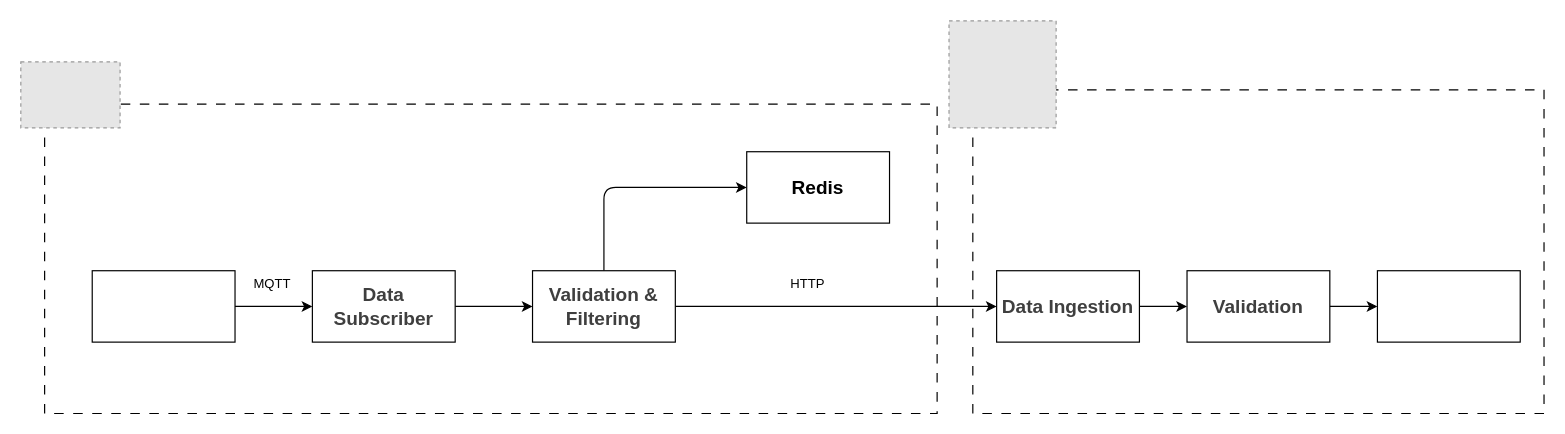
This 1565x434 diagram has some shape labels left out. Grey dashed boxes stand in for pictures. Here are the shapes that lost their labels. From the top down, the centre of each, then its label:
the point at 163,306: Data Generator
the point at 1448,306: InfluxDB
